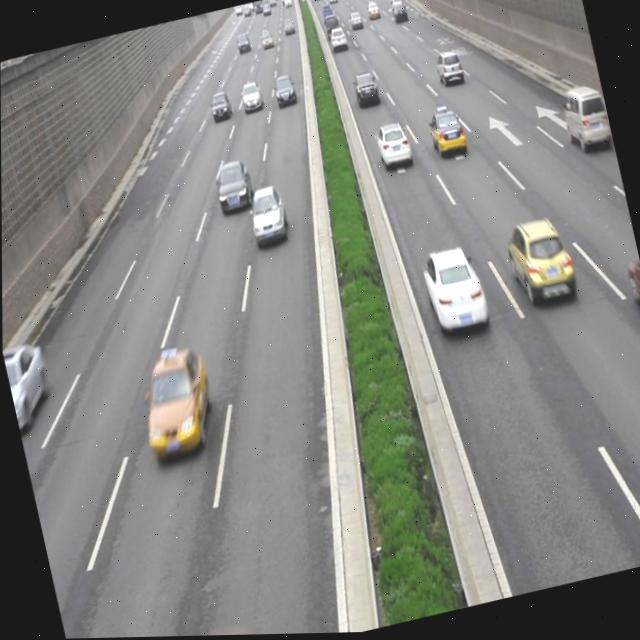car: (132, 346, 220, 464), (501, 215, 577, 315), (417, 243, 490, 343), (2, 337, 52, 422), (244, 183, 289, 248), (209, 158, 257, 217), (425, 107, 466, 163), (372, 120, 413, 174)
truck: (556, 84, 605, 156)
